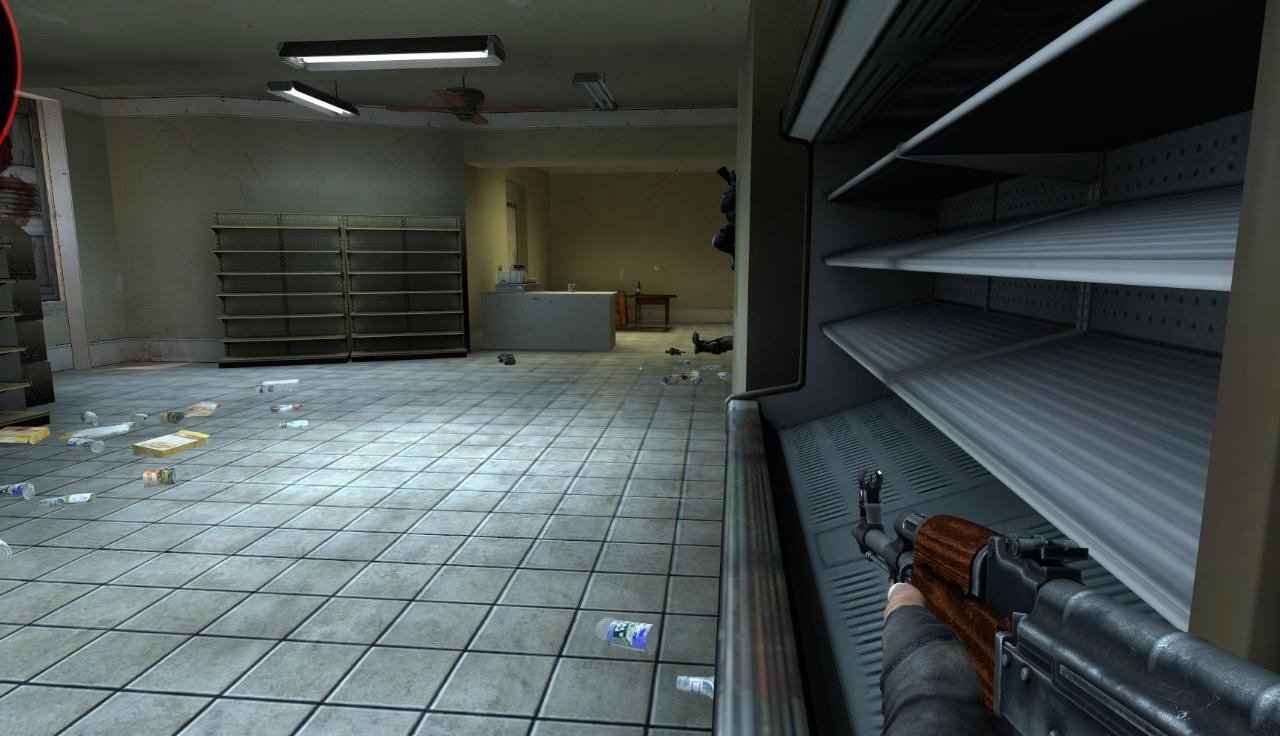ct: (714, 166, 736, 270)
rifle: (853, 466, 1280, 736)
